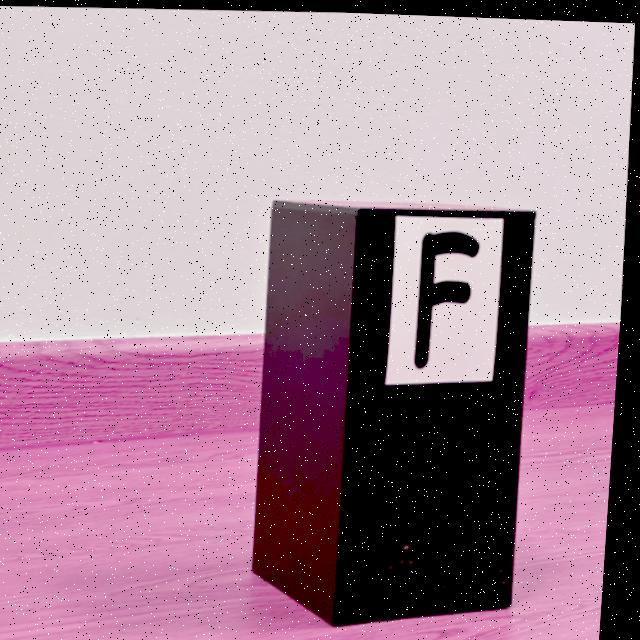F: (419, 228, 483, 364)
